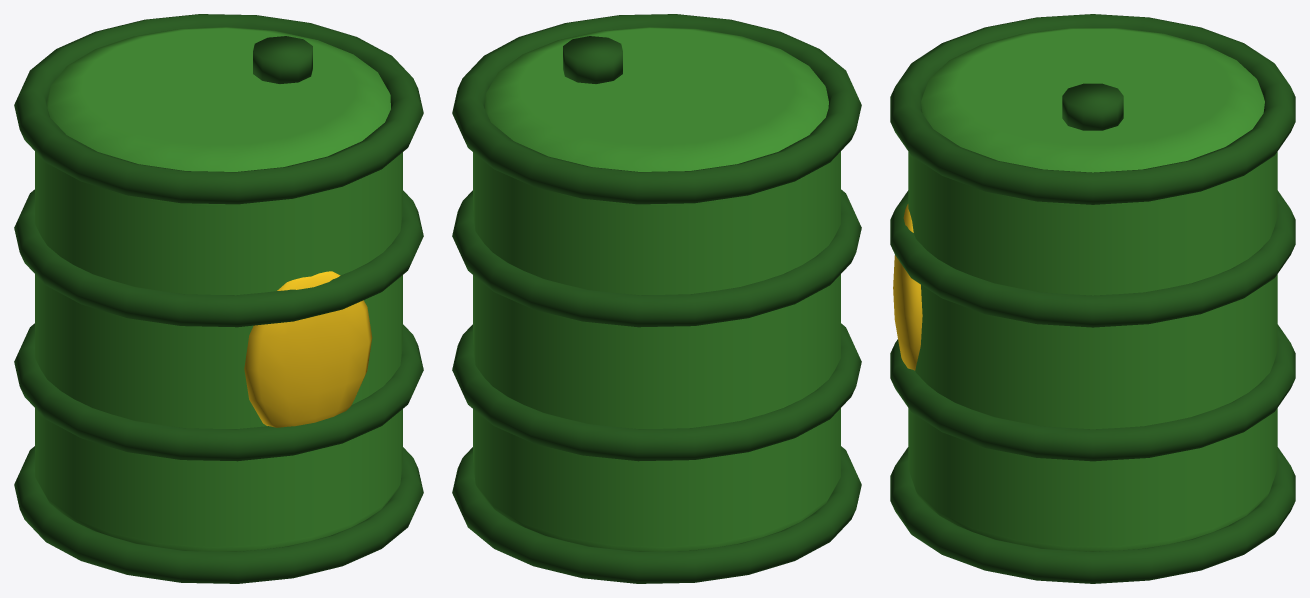
The model's file is oil-drum.glb.
3 views of the same model, side by side, from view 1: azimuth 30°, elevation 25°; view 2: azimuth 150°, elevation 25°; view 3: azimuth 270°, elevation 25° (orthographic).
Parts seen in each view (by area): view 1: OilDrum; view 2: OilDrum; view 3: OilDrum.
Part boxes in pixels (x1,y1,x2,y2): OilDrum: (14, 14, 423, 583); OilDrum: (452, 14, 861, 583); OilDrum: (890, 14, 1295, 583).
Bounding box in the file's own units: 0.666 × 0.8 × 0.6592.
